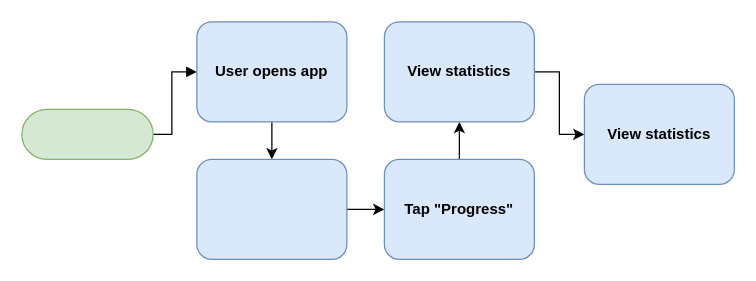
The diagram is 756 pixels wide and 281 high, and some of its shapes have lost their labels. Each missing label, with the box of its shape:
Home Screen: (196, 158, 347, 259)
Start: (21, 108, 153, 159)
